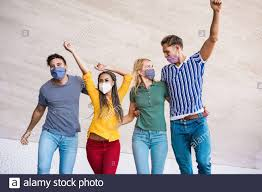with-mask: (43, 51, 71, 83), (159, 34, 185, 64), (132, 56, 157, 86), (95, 69, 116, 95)
